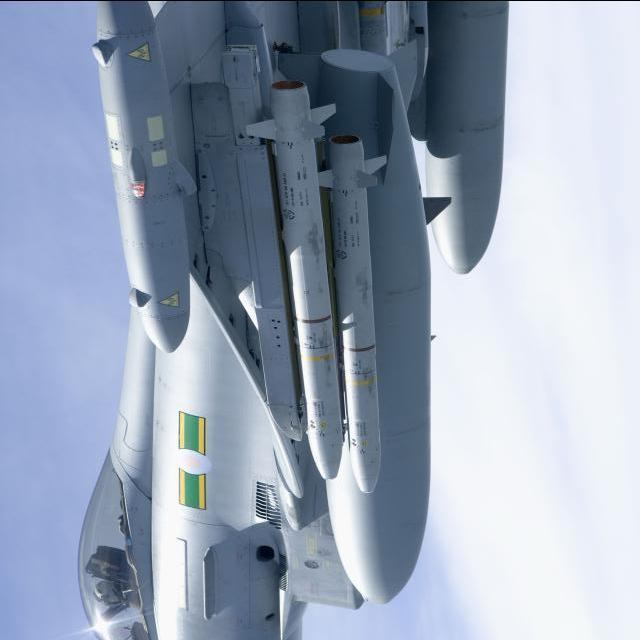missile: (322, 17, 448, 614), (85, 0, 202, 347), (251, 77, 350, 474), (310, 134, 387, 499), (437, 0, 537, 280)
